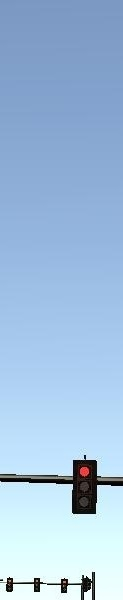Red: (73, 459, 96, 514)
